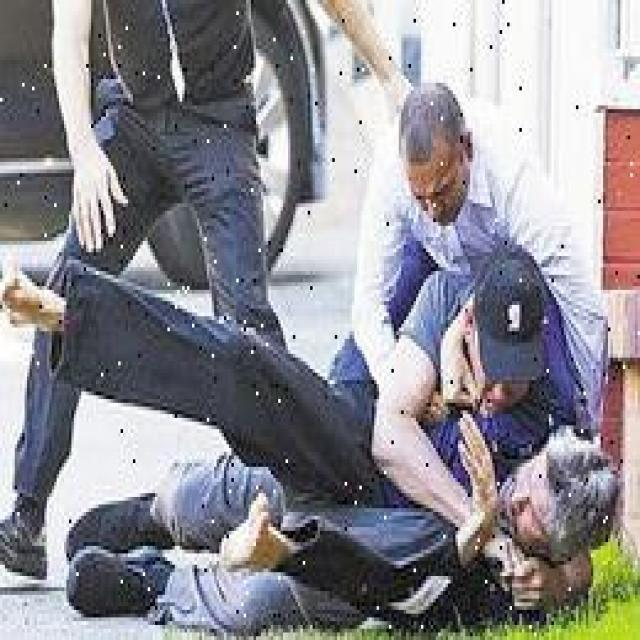fall: (68, 408, 620, 630)
